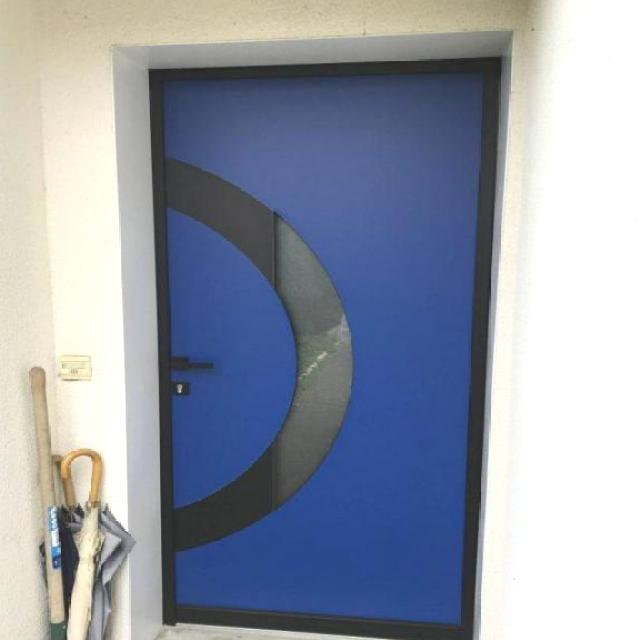door: (147, 54, 503, 638)
